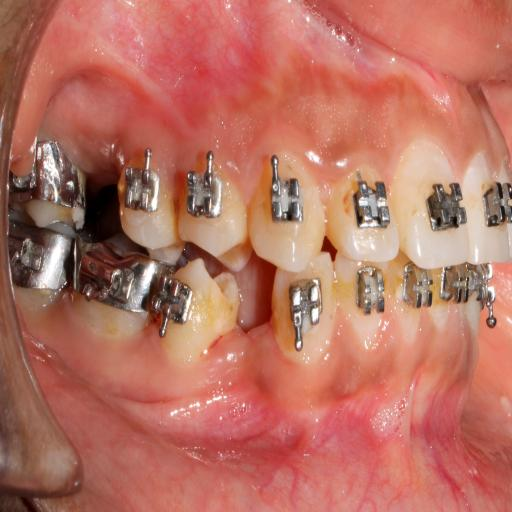correct_brace: (179, 158, 244, 261), (347, 176, 393, 236), (428, 178, 468, 240), (266, 176, 305, 223)
incorrect_brace: (330, 160, 395, 268), (184, 168, 226, 222)
